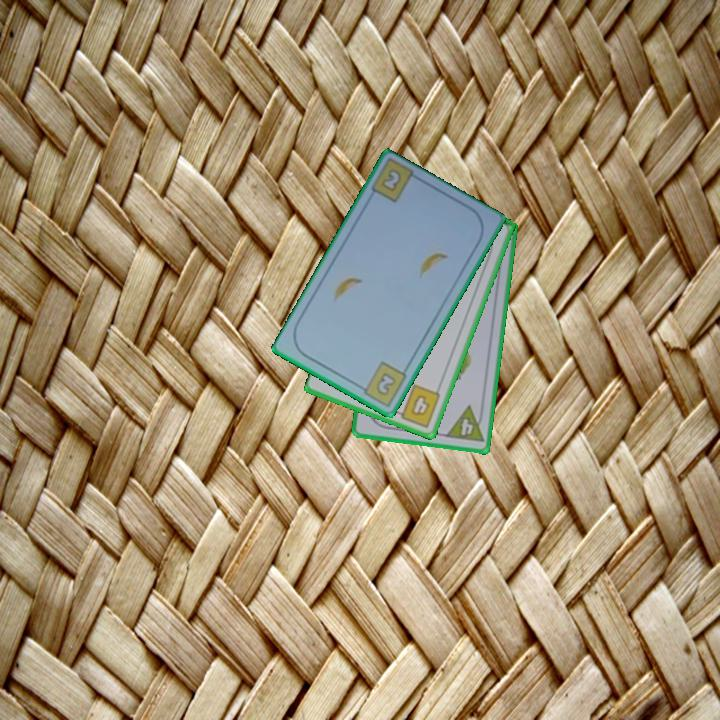2b: (354, 358, 410, 409), (378, 166, 404, 195)
4b: (392, 381, 444, 431)
4p: (442, 403, 487, 445)
